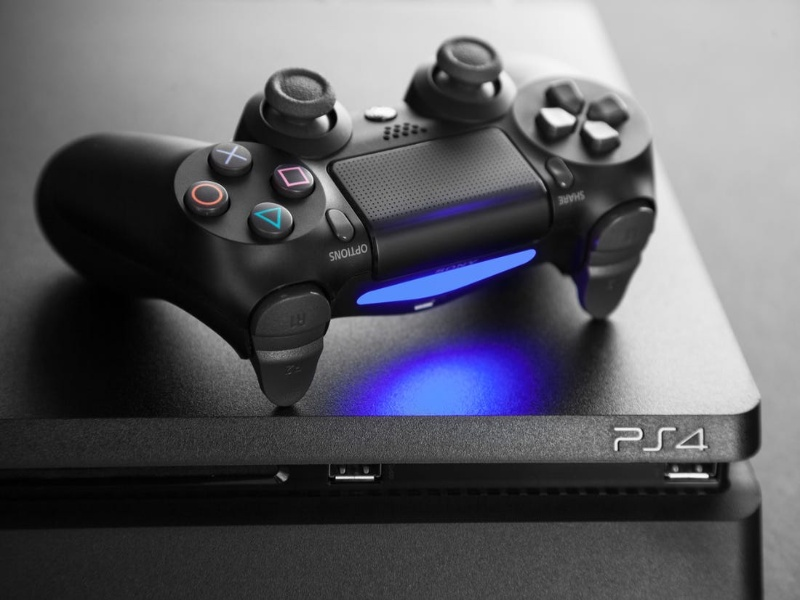ps4 joystick: (32, 36, 662, 407)
